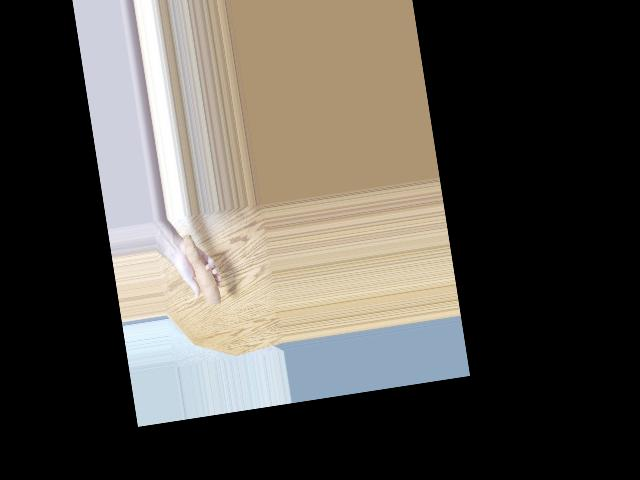sweet_potato: (181, 223, 224, 308)
